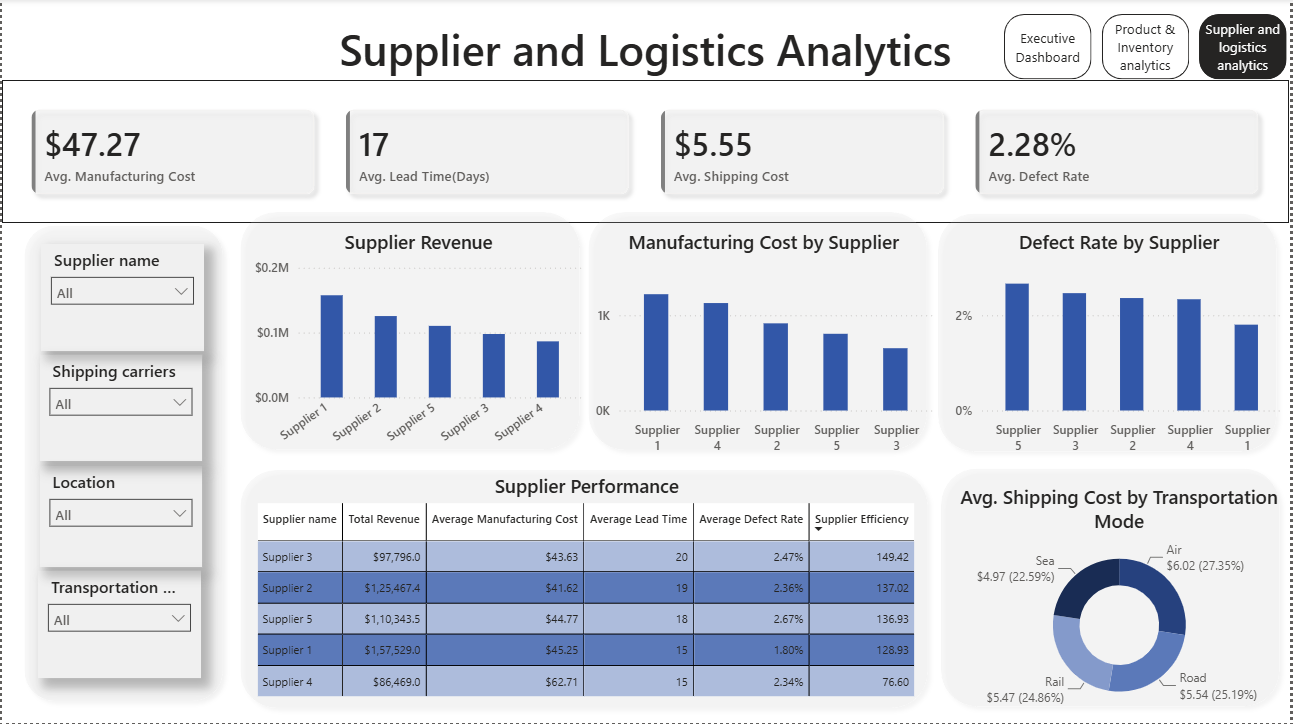

This screenshot's page, from the dashboard's own definition file:
{"tool":"powerbi","page":{"name":"Supplier and logistics analytics","canvas":[1280,720],"ordinal":2},"visuals":[{"type":"textbox","box":[0,15.1,1279.5,74.2],"z":0},{"type":"cardVisual","fields":{"Data":["Measures (3).Average Manufacturing Cost","Measures (3).Average Lead Time","Measures (3).Average Shipping Cost","Measures (3).Average Defect Rate"]},"box":[0,80.3,1279.5,142.3],"z":1000},{"type":"shape","box":[228.6,203.4,355,254],"z":2000},{"type":"shape","box":[573.9,202.9,354.3,254.4],"z":3000},{"type":"shape","box":[922.2,204.4,354.3,254.4],"z":4000},{"type":"shape","box":[228.6,458.8,701.1,254.4],"z":5000},{"type":"shape","box":[925.2,457.3,354.3,254.4],"z":6000},{"type":"clusteredColumnChart","title":"Supplier Revenue","fields":{"Category":["supply_chain_data.Supplier name"],"Y":["Measures (3).Total Revenue"]},"box":[246.8,228.6,336.2,231.7],"z":7000},{"type":"clusteredColumnChart","title":"Manufacturing Cost by Supplier","fields":{"Category":["supply_chain_data.Supplier name"],"Y":["Sum(supply_chain_data.Manufacturing costs)"]},"box":[583,228.6,348.3,231.7],"z":8000},{"type":"clusteredColumnChart","title":"Defect Rate by Supplier","fields":{"Category":["supply_chain_data.Supplier name"],"Y":["Measures (3).Average Defect Rate"]},"box":[943.3,228.6,336.2,231.7],"z":9000},{"type":"pivotTable","title":"Supplier Performance","fields":{"Rows":["supply_chain_data.Supplier name"],"Values":["Measures (3).Total Revenue","Measures (3).Average Manufacturing Cost","Measures (3).Average Lead Time","Measures (3).Average Defect Rate","Measures (3).Supplier Efficiency"]},"box":[249.8,470.9,664.7,231.7],"z":10000},{"type":"donutChart","title":"Avg. Shipping Cost by Transportation Mode","fields":{"Category":["supply_chain_data.Transportation modes"],"Y":["Measures (3).Average Shipping Cost"]},"box":[943.3,481.5,336.2,231.7],"z":11000},{"type":"shape","box":[13.6,216.5,215,490.6],"z":12000},{"type":"slicer","fields":{"Values":["supply_chain_data.Supplier name"]},"box":[39.4,242.8,162,107.5],"z":13000},{"type":"slicer","fields":{"Values":["supply_chain_data.Location"]},"box":[37.9,463.3,162,101.5],"z":14000},{"type":"slicer","fields":{"Values":["supply_chain_data.Shipping carriers"]},"box":[37.9,353.8,162,106],"z":15000},{"type":"slicer","fields":{"Values":["supply_chain_data.Transportation modes"]},"box":[36.3,568.3,162,107.5],"z":16000},{"type":"pageNavigator","box":[996.3,15.1,283.2,65.1],"z":17000}]}

Visuals, with their boxes in screenshot pixels (x1, y1, x2, y2), scaled from the page's 1280x720 canvas onto the 1293x724 screenshot:
textbox: x1=0 y1=15 x2=1292 y2=90
cardVisual - Measures (3).Average Manufacturing Cost x Measures (3).Average Lead Time: x1=0 y1=81 x2=1292 y2=224
shape: x1=231 y1=205 x2=590 y2=460
shape: x1=580 y1=204 x2=938 y2=460
shape: x1=932 y1=206 x2=1289 y2=461
shape: x1=231 y1=461 x2=939 y2=717
shape: x1=935 y1=460 x2=1292 y2=716
"Supplier Revenue" clusteredColumnChart: x1=249 y1=230 x2=589 y2=463
"Manufacturing Cost by Supplier" clusteredColumnChart: x1=589 y1=230 x2=941 y2=463
"Defect Rate by Supplier" clusteredColumnChart: x1=953 y1=230 x2=1292 y2=463
"Supplier Performance" pivotTable: x1=252 y1=474 x2=924 y2=707
"Avg. Shipping Cost by Transportation Mode" donutChart: x1=953 y1=484 x2=1292 y2=717
shape: x1=14 y1=218 x2=231 y2=711
slicer - supply_chain_data.Supplier name: x1=40 y1=244 x2=203 y2=352
slicer - supply_chain_data.Location: x1=38 y1=466 x2=202 y2=568
slicer - supply_chain_data.Shipping carriers: x1=38 y1=356 x2=202 y2=462
slicer - supply_chain_data.Transportation modes: x1=37 y1=571 x2=200 y2=680
pageNavigator: x1=1006 y1=15 x2=1292 y2=81
